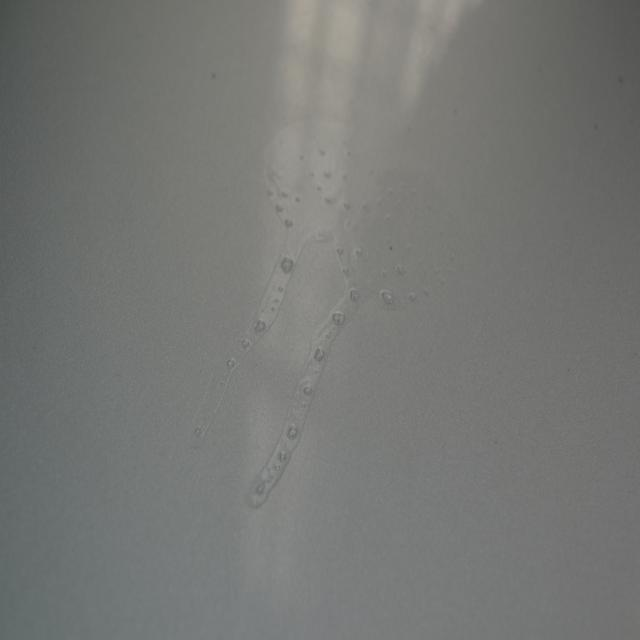dirt: (590, 120, 601, 134), (617, 73, 625, 88), (212, 71, 216, 78)
runs: (188, 121, 467, 507)
